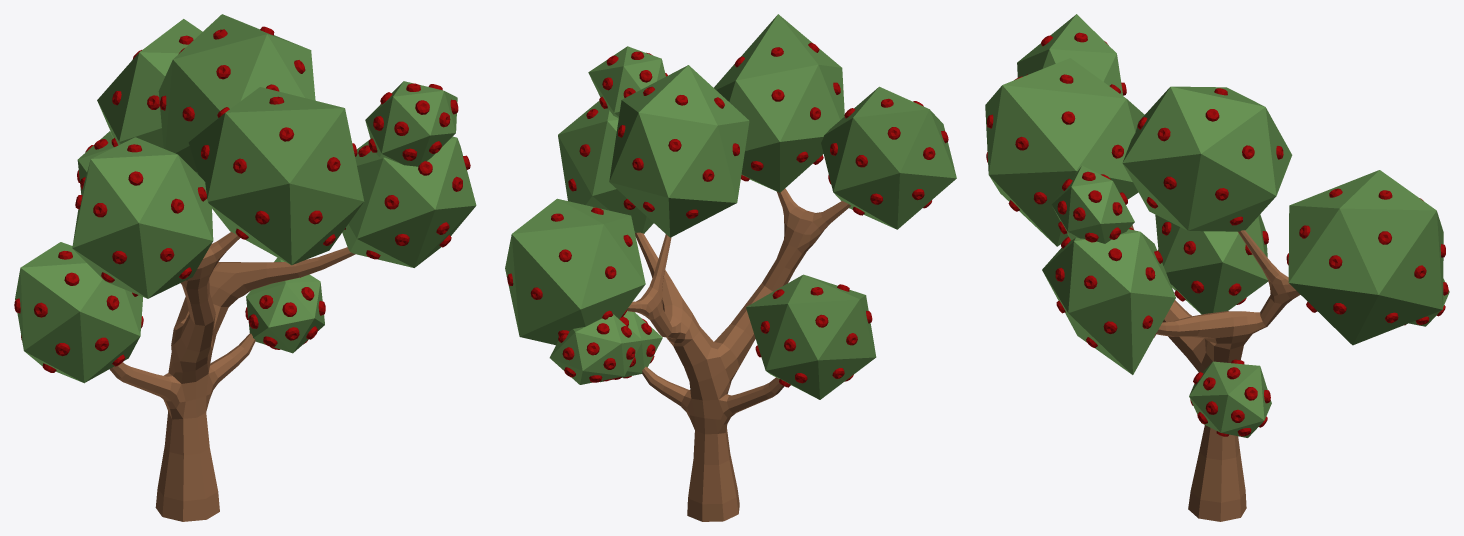
Rendered from 052 Apple_Tree.FBX.
3 renders of one model, left to right at view 1: azimuth 30°, elevation 25°; view 2: azimuth 150°, elevation 25°; view 3: azimuth 270°, elevation 25°, orthographic. The views are drawn at different scales.
Visible parts, largest first — view 1: GeoSphere723, Tree 257; view 2: GeoSphere723, Tree 257; view 3: GeoSphere723, Tree 257.
Part boxes in pixels (x1,y1,x2,y2): GeoSphere723: (14, 14, 476, 383); Tree 257: (109, 232, 355, 521); GeoSphere723: (505, 14, 956, 399); Tree 257: (627, 188, 850, 521); GeoSphere723: (985, 14, 1449, 437); Tree 257: (1130, 225, 1300, 521).
Size of the model in its own units: 429 by 467 by 439.
